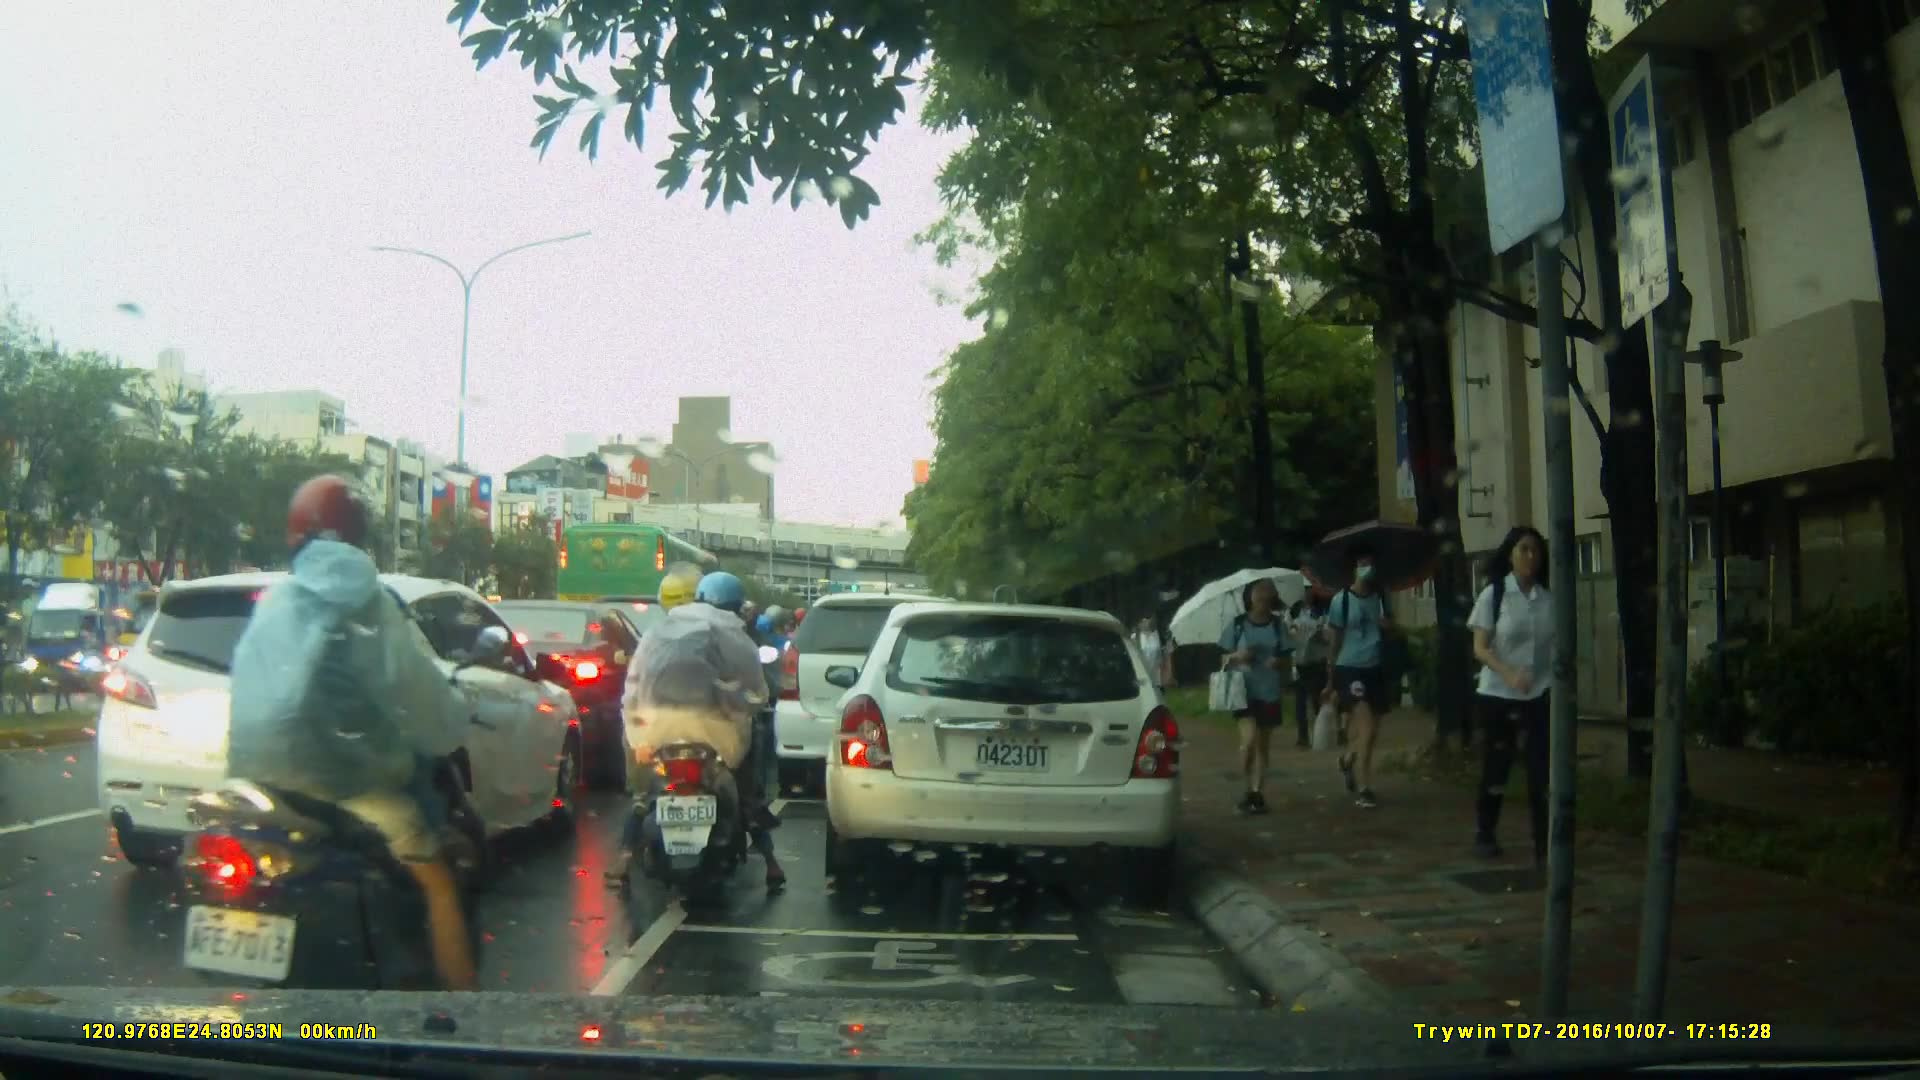pedestrian: (1453, 512, 1578, 876), (1310, 544, 1412, 816), (1211, 571, 1301, 825), (1131, 602, 1173, 746)
rider: (159, 473, 524, 1009), (598, 566, 780, 907), (655, 585, 761, 820)
vehicle: (93, 569, 587, 883), (822, 604, 1186, 883), (774, 595, 995, 802), (554, 519, 739, 666), (20, 576, 199, 697)
